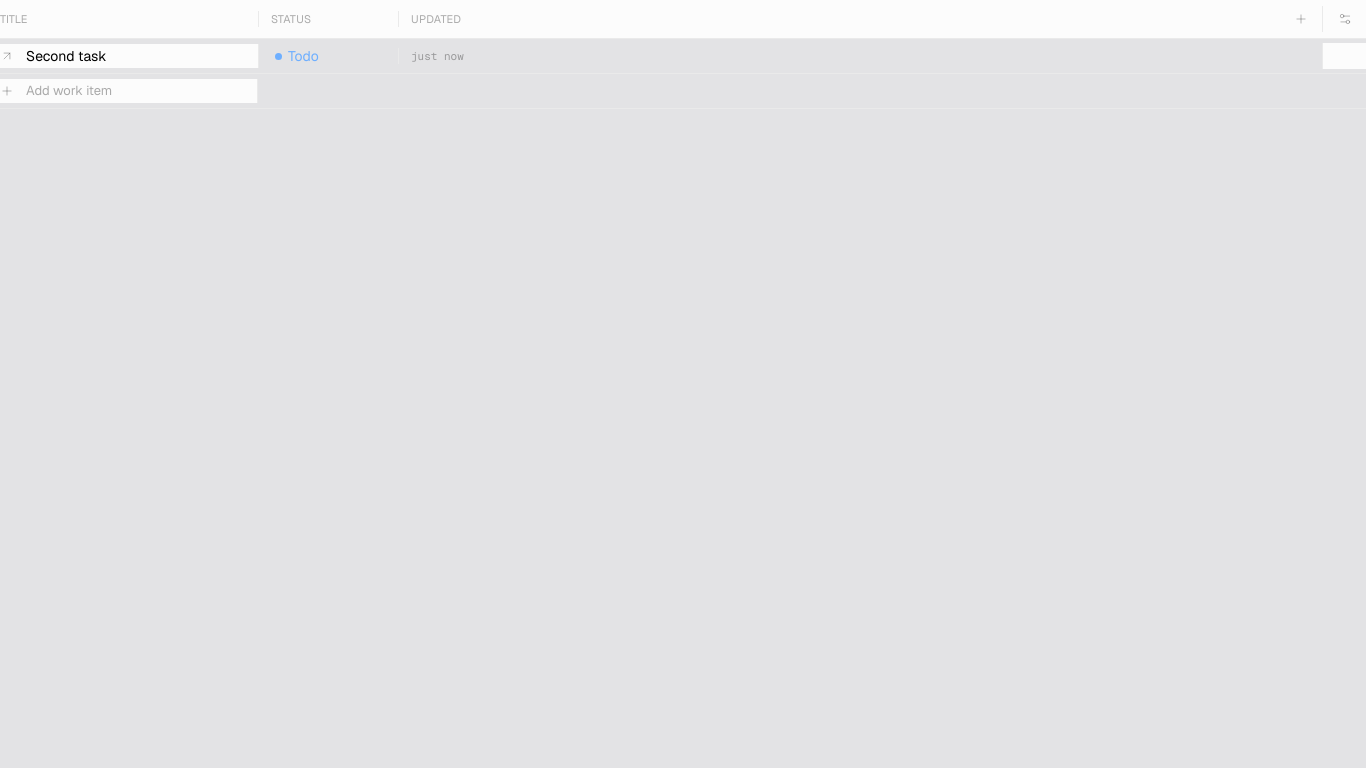
Test case: TableView › column picker lists orphan frontmatter keys under Suggested
Check: the text "Second task" is shown, box [22, 44, 110, 68]
Step 1. Click the button named "columns" → (1344, 19), box [1332, 6, 1358, 32]
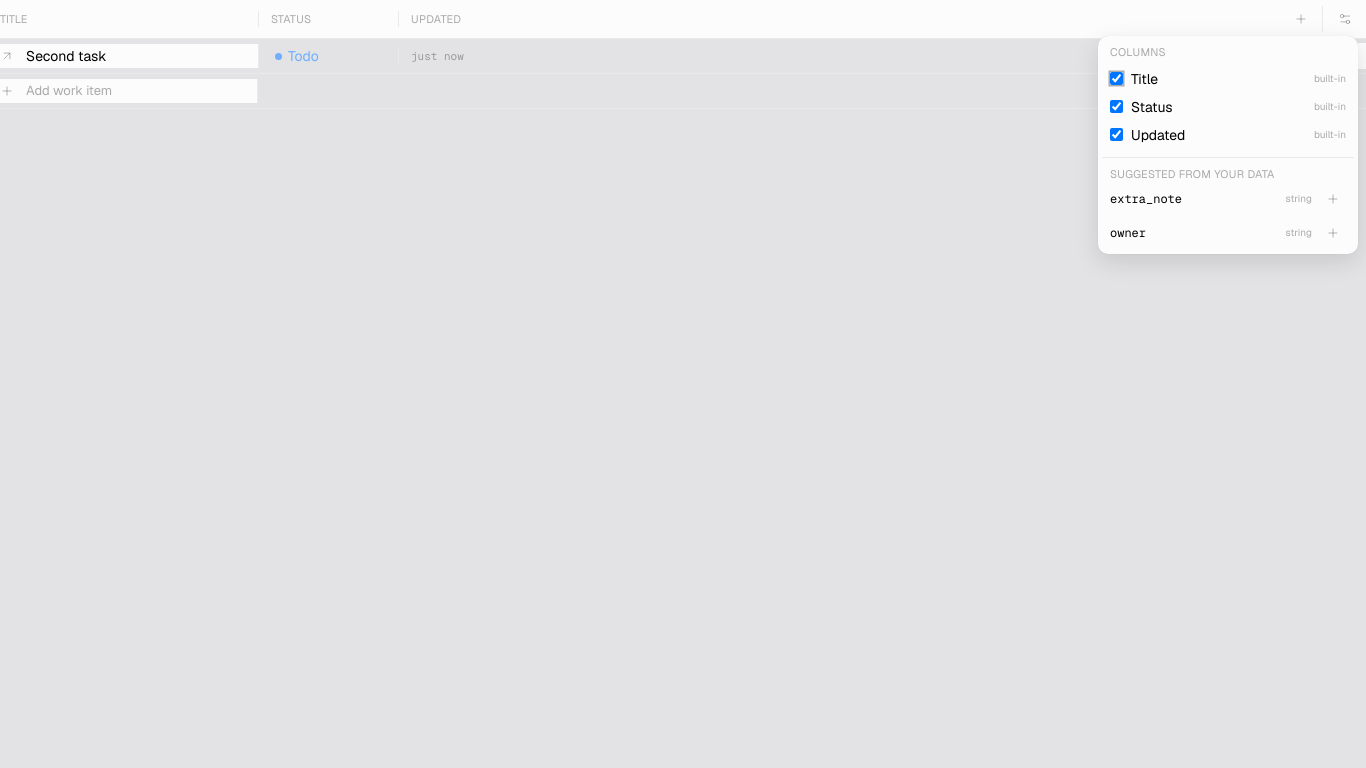
Check: the text "Suggested from your data" is shown, box [1102, 156, 1354, 182]
Check: the text "owner" is shown, box [1110, 225, 1146, 241]
Check: the text "extra_note" is shown, box [1110, 191, 1182, 207]
